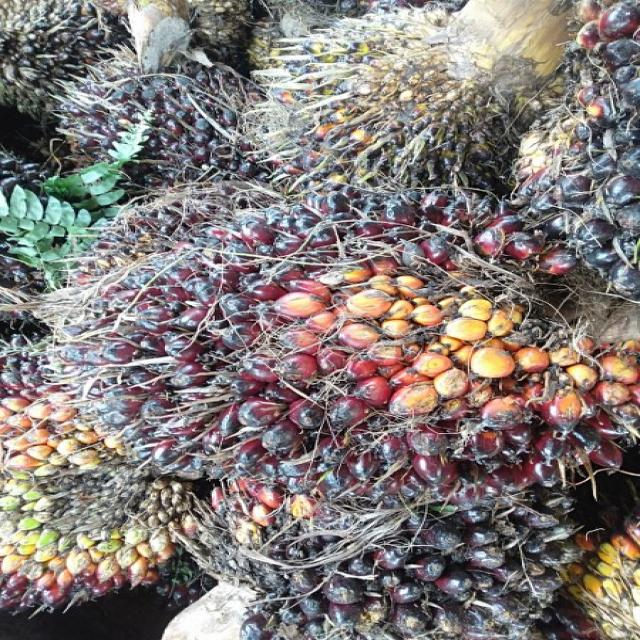fraksi 1: (46, 173, 640, 512)
